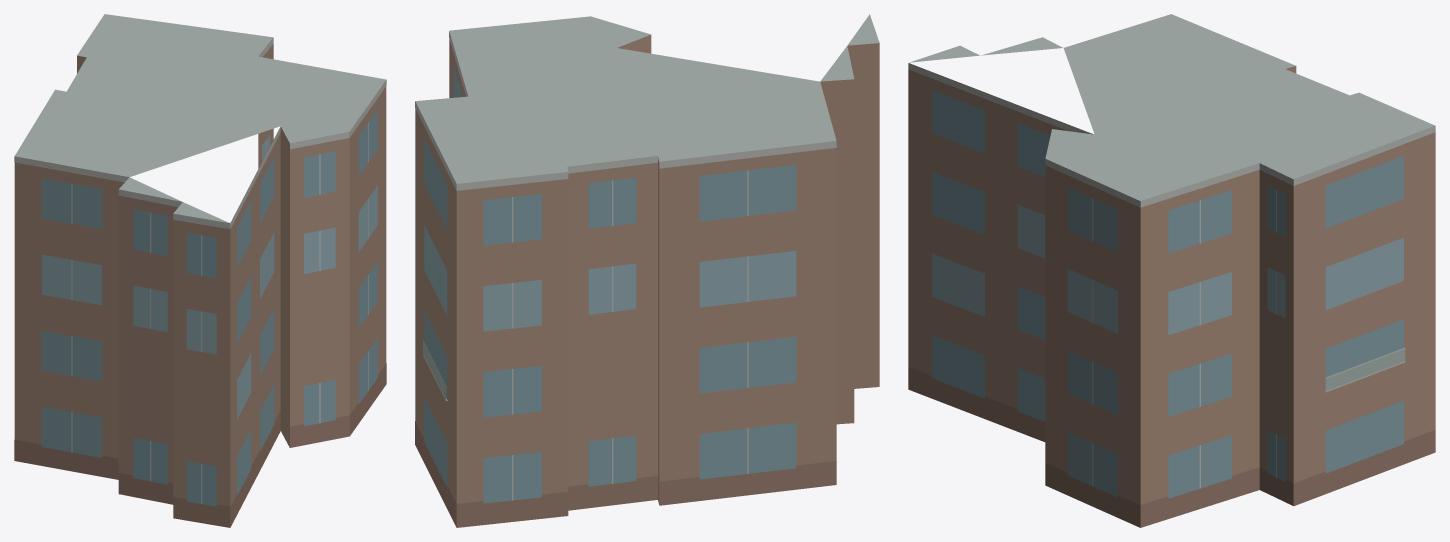
File: survey-upis-32930774.glb
3 views of the same model, side by side, from view 1: azimuth 30°, elevation 25°; view 2: azimuth 150°, elevation 25°; view 3: azimuth 270°, elevation 25° (orthographic). The views are drawn at different scales.
Visible parts, largest first — view 1: survey-upis-32930774.tmp; view 2: survey-upis-32930774.tmp; view 3: survey-upis-32930774.tmp.
Boxes of the visible parts, bbox=[...] form: survey-upis-32930774.tmp: bbox=[14, 14, 386, 527]; survey-upis-32930774.tmp: bbox=[415, 14, 879, 527]; survey-upis-32930774.tmp: bbox=[908, 14, 1435, 527].
Bounding box in the file's own units: 15 × 12.2 × 17.85.
